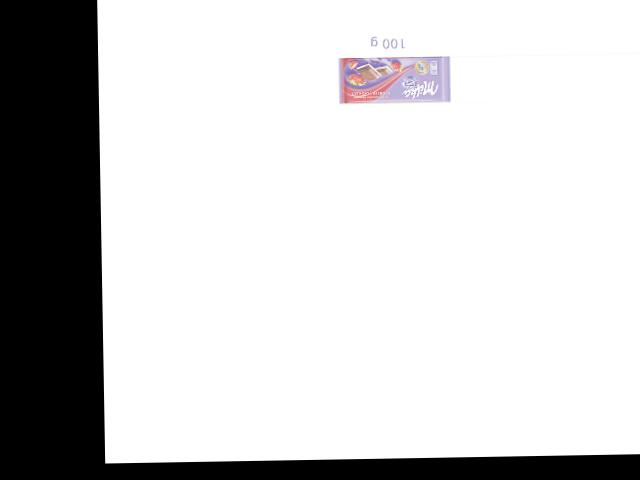chocolate: (337, 50, 450, 104)
